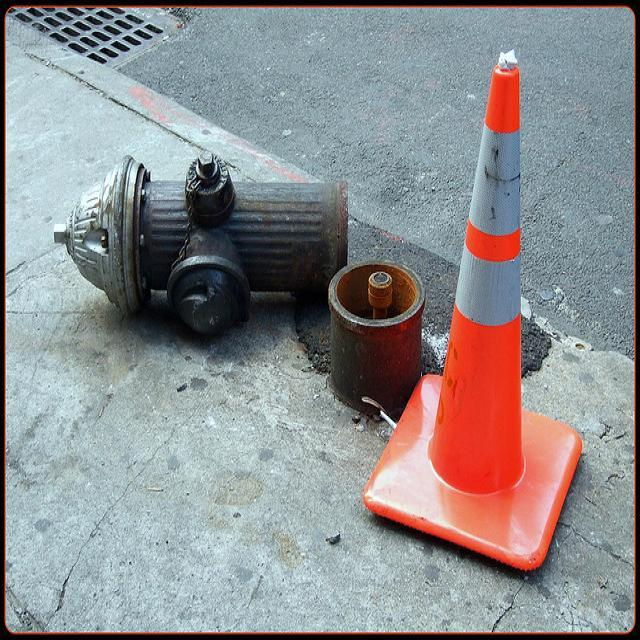fire_hydrant: (53, 152, 423, 422)
